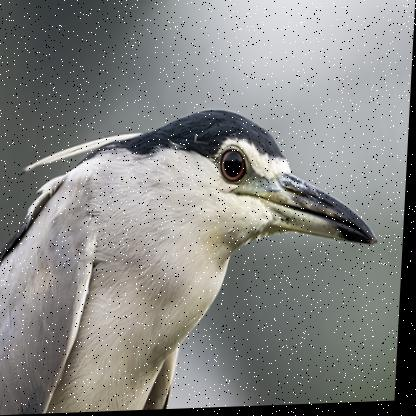Burung: (0, 106, 385, 415)
